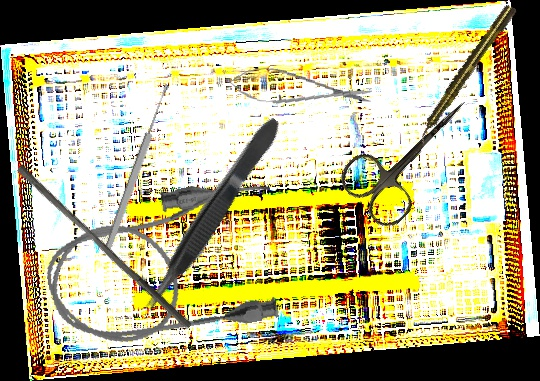Cannula: (35, 171, 295, 360)
Handpiece: (412, 2, 519, 145)
Iris Scissors: (333, 75, 493, 234)
Micro Scissor: (227, 63, 374, 115)
Pusher: (10, 163, 199, 331)
Surgical Spoon: (102, 83, 173, 251)
Tissue Forceps: (135, 113, 290, 318)
